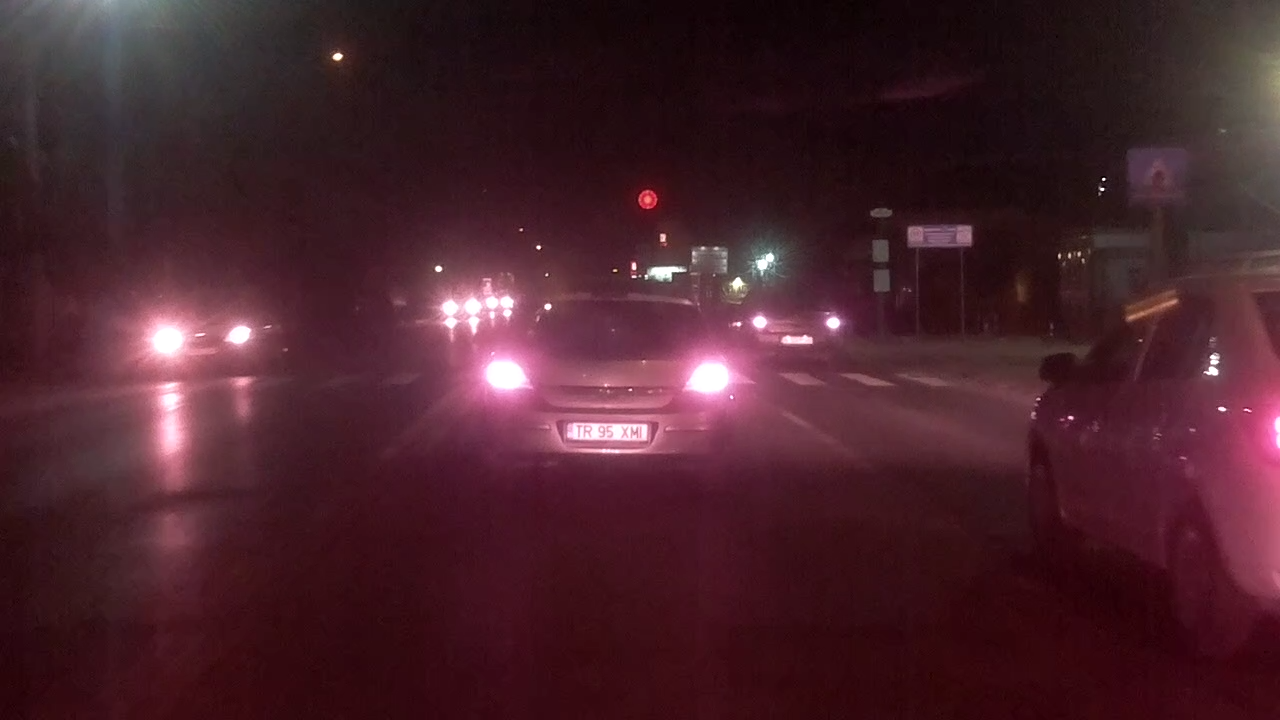license-plate: (561, 418, 653, 446)
